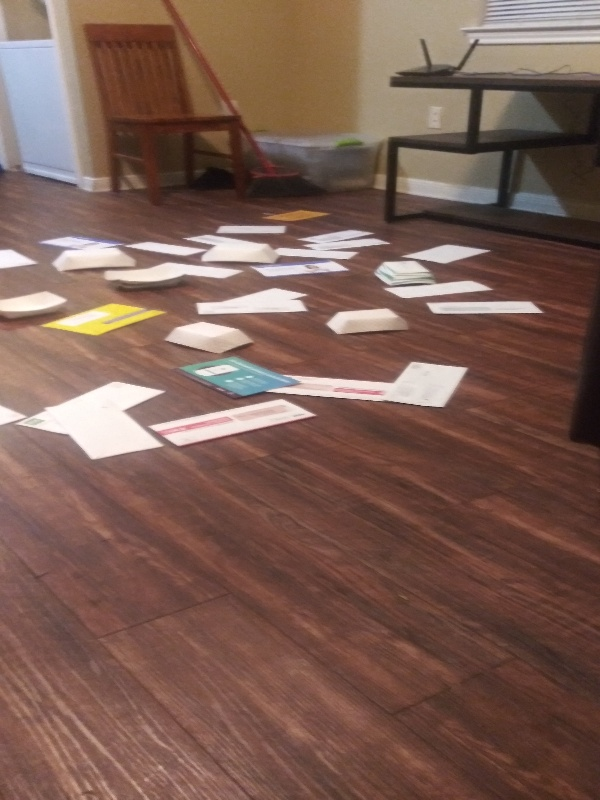plate: (161, 321, 259, 357), (48, 244, 142, 280), (320, 304, 414, 339), (100, 262, 195, 296), (1, 287, 73, 327), (197, 240, 285, 267), (370, 258, 443, 289)
